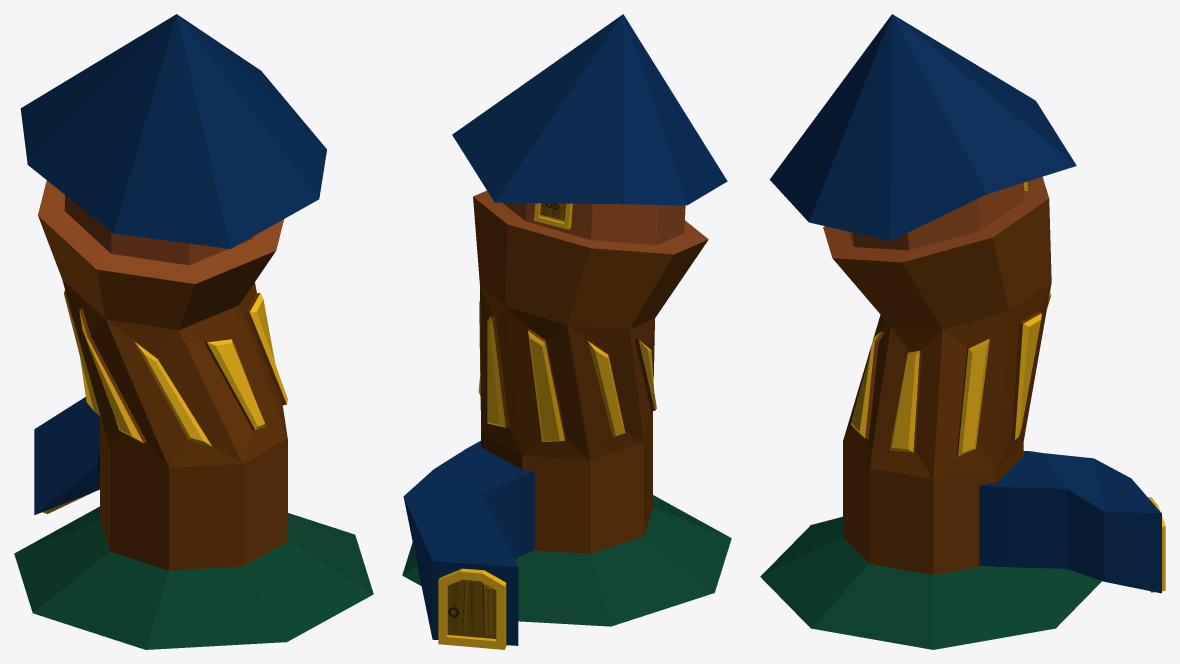
The model's file is BlueMageTower.fbx.
The picture shows the model from 3 angles, left to right: view 1: azimuth 30°, elevation 25°; view 2: azimuth 150°, elevation 25°; view 3: azimuth 270°, elevation 25°; orthographic projection. The views are drawn at different scales.
Parts seen in each view (by area): view 1: Entrance tunnel; view 2: Entrance tunnel; view 3: Entrance tunnel.
Boxes of the visible parts, bbox=[...] form: Entrance tunnel: bbox=[14, 14, 373, 649]; Entrance tunnel: bbox=[402, 14, 731, 649]; Entrance tunnel: bbox=[760, 14, 1165, 649].
Size of the model in its own units: 383 by 674 by 449.
